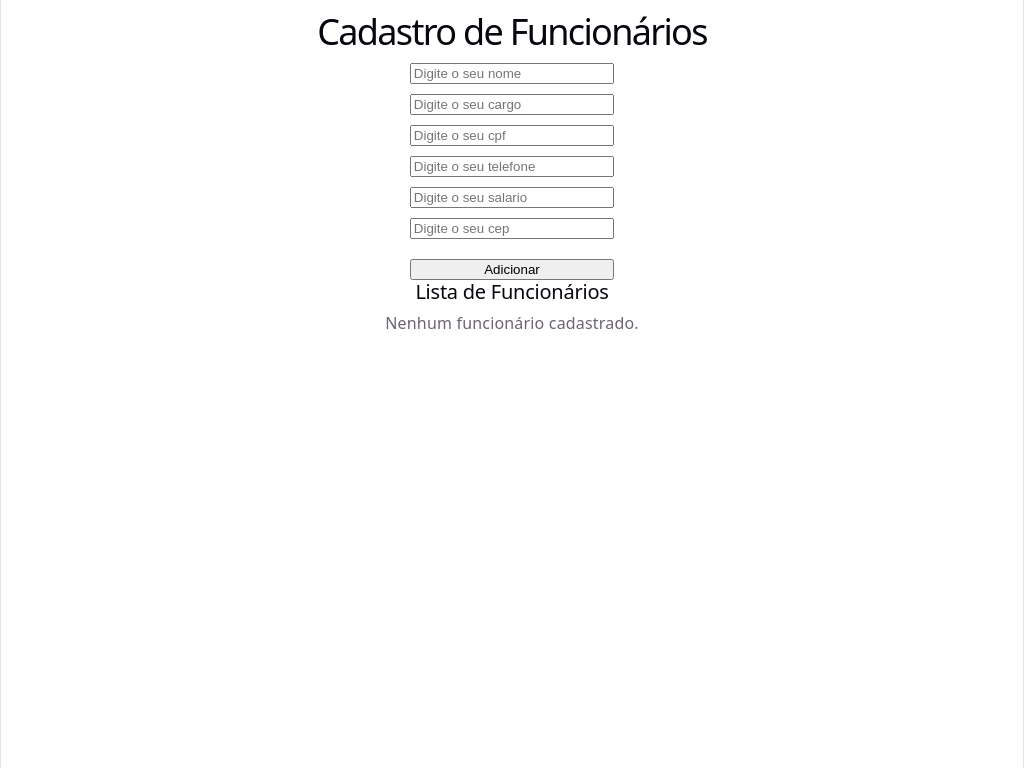
Test: Testes da Tela Cadastro de Funcionários › Verificar exibição de erro ao preencher formulário completamente vazio
What coordinates should you click on to do the following:
click the button "Adicionar"
I would click on:
 (512, 270)
Its box is x1=410 y1=259 x2=614 y2=280.
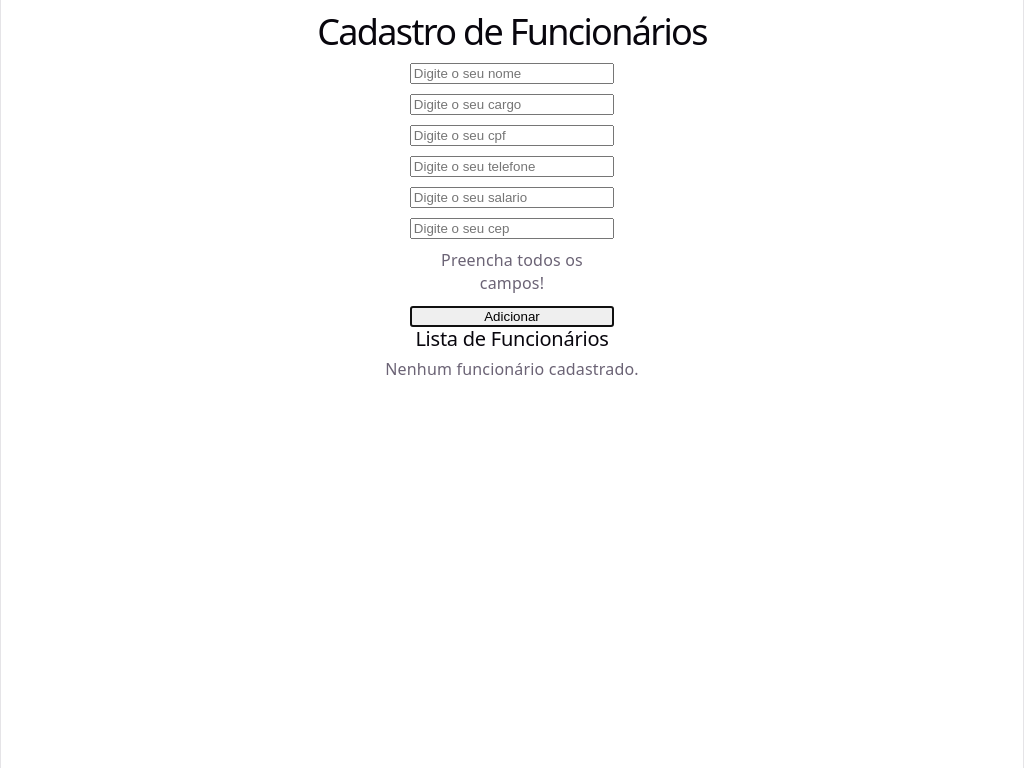
Now the message reads "Preencha todos os campos!", box x1=441 y1=249 x2=583 y2=294
